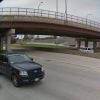Bridge: (2, 2, 97, 44)
